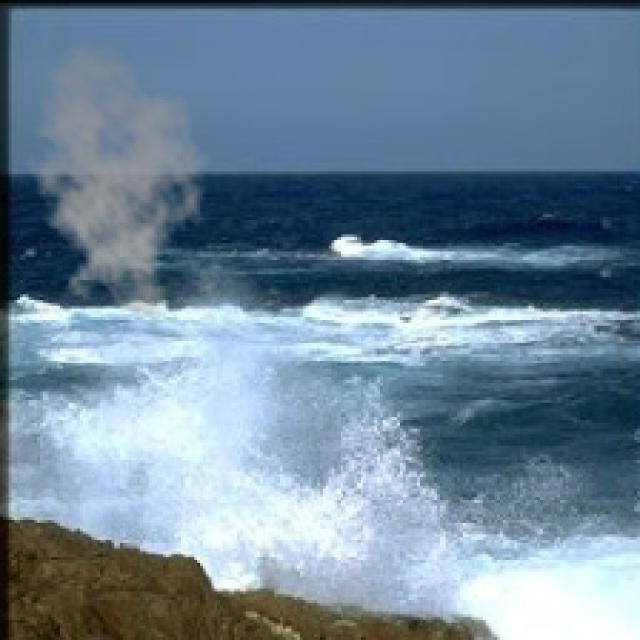Smoke: (14, 40, 214, 320)
